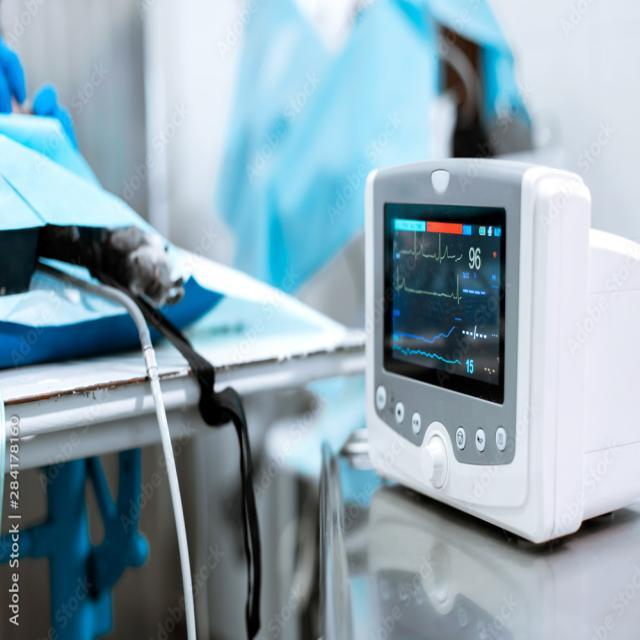Monitor: (363, 155, 638, 546)
